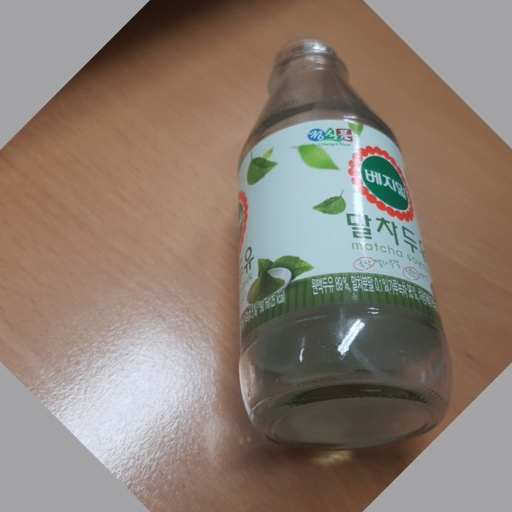Glass_4: (229, 36, 451, 449)
